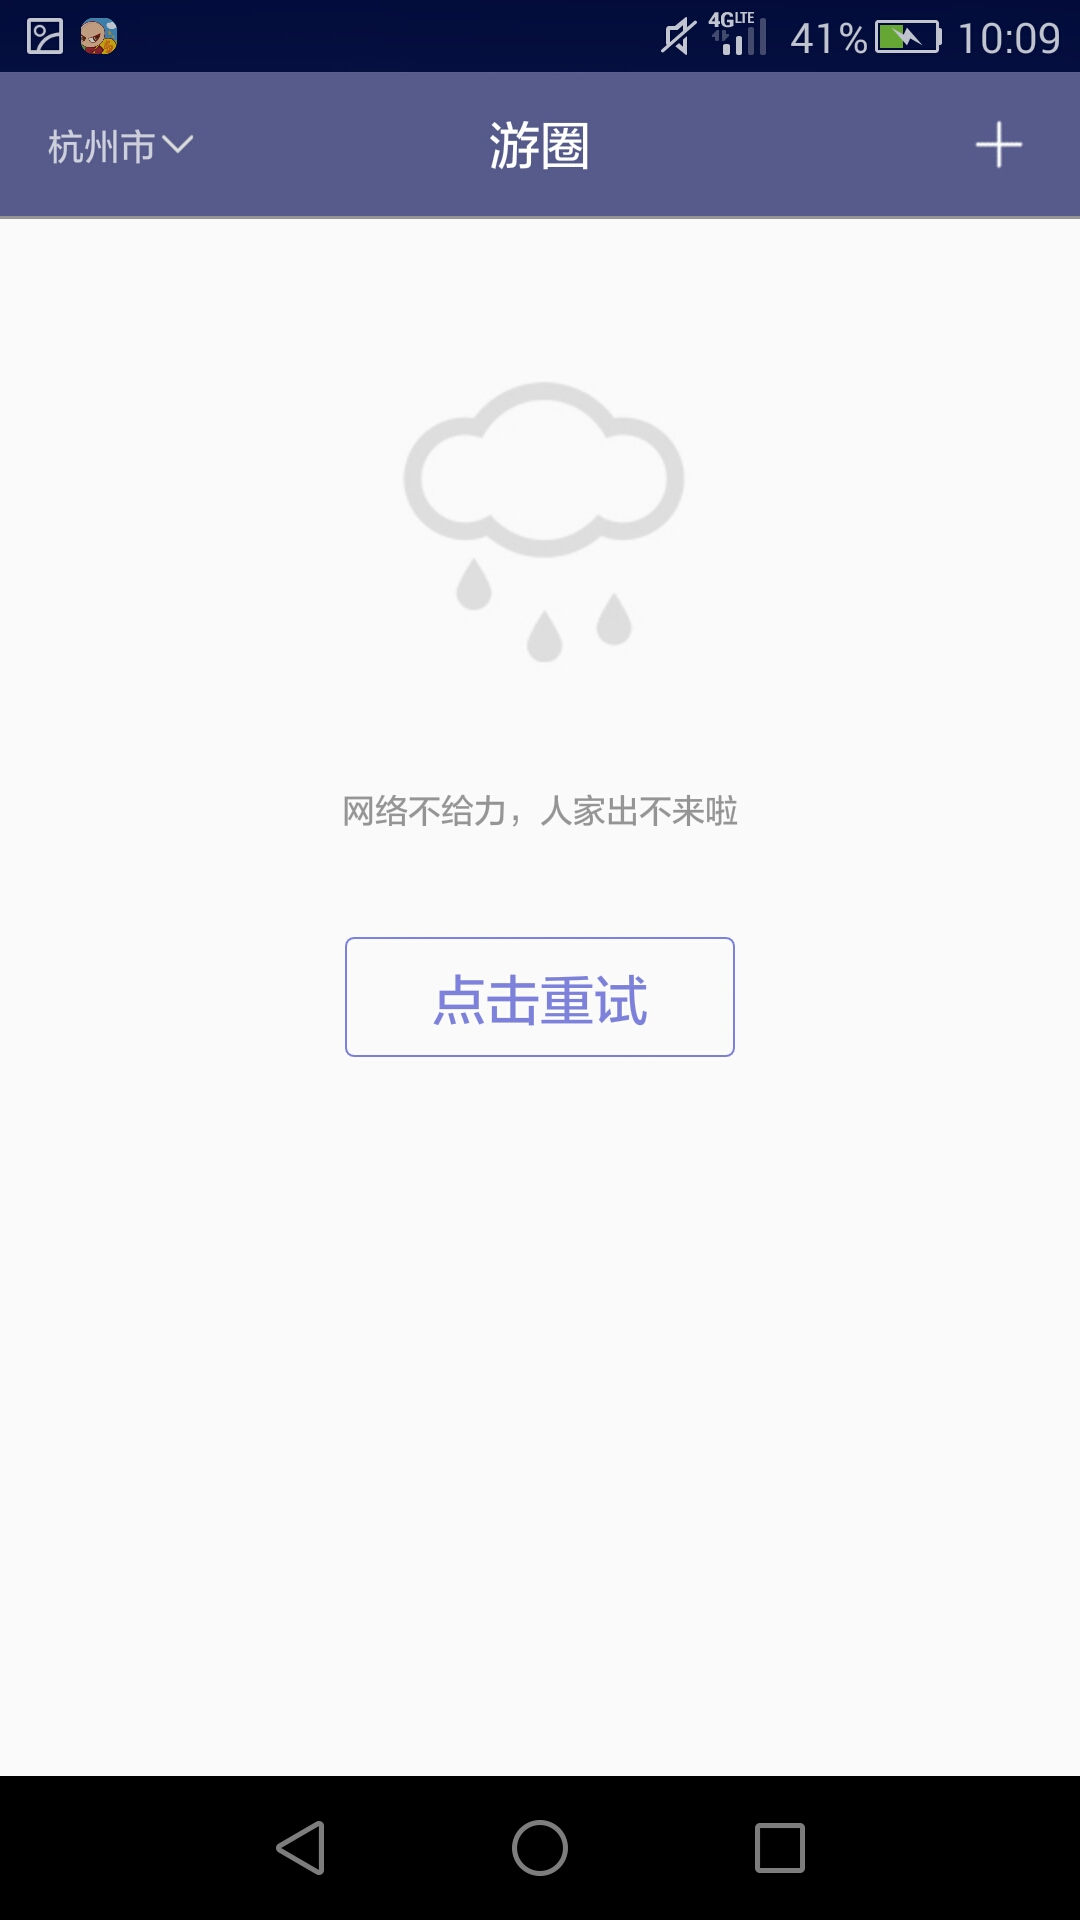imgbutton: (961, 100, 1044, 185)
